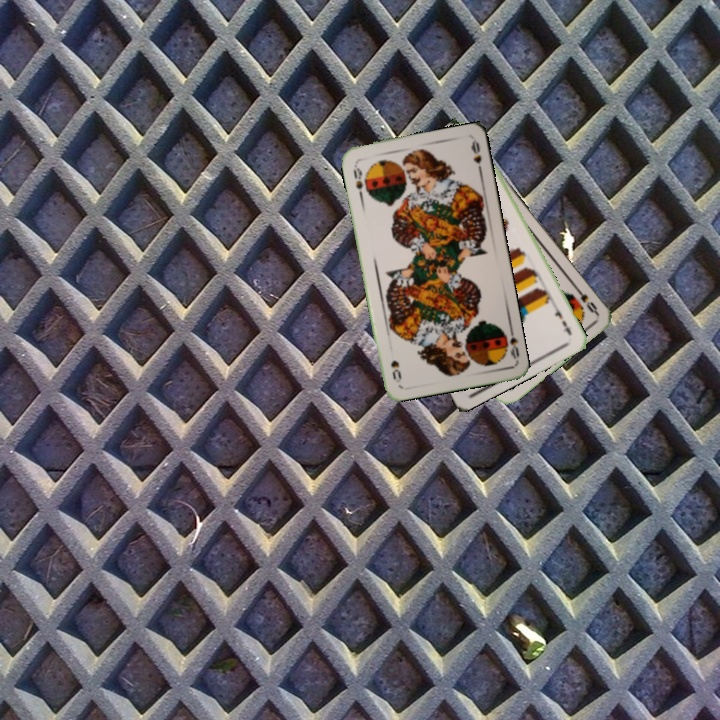E7: (549, 301, 574, 338)
SO: (570, 282, 601, 317), (498, 323, 522, 363), (349, 159, 366, 200)
